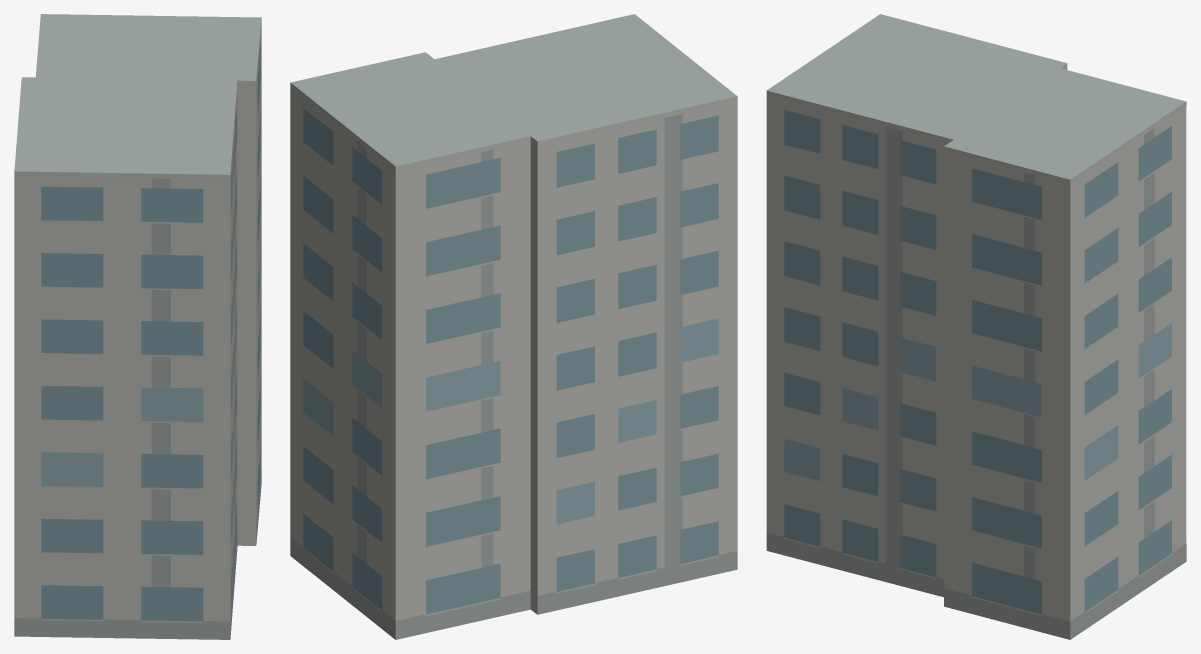
File: survey-upis-32794743.glb
3 renders of one model, left to right at view 1: azimuth 30°, elevation 25°; view 2: azimuth 150°, elevation 25°; view 3: azimuth 270°, elevation 25°, orthographic. The views are drawn at different scales.
Parts seen in each view (by area): view 1: survey-upis-32794743.tmp; view 2: survey-upis-32794743.tmp; view 3: survey-upis-32794743.tmp.
Boxes of the visible parts, <box> form: survey-upis-32794743.tmp: <box>14,14,261,639</box>; survey-upis-32794743.tmp: <box>290,14,737,639</box>; survey-upis-32794743.tmp: <box>766,14,1186,639</box>.
Bounding box in the file's own units: 17.38 × 22.5 × 18.61.
